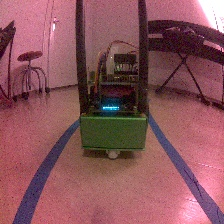rob: (78, 52, 148, 159)
